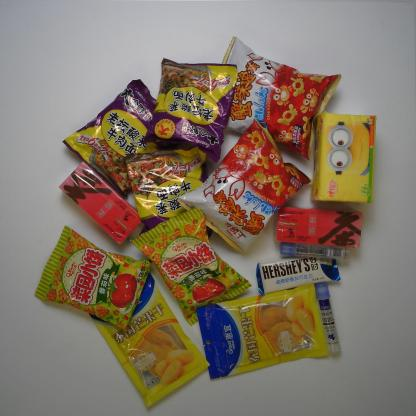Chocolate: (255, 247, 344, 294)
Dried Fruit: (85, 269, 212, 409), (195, 282, 333, 380)
Instant Drink: (57, 160, 142, 248), (273, 206, 364, 250)
Instant Noodles: (62, 79, 170, 198), (140, 58, 238, 164), (126, 145, 216, 239)
Puffed Food: (176, 115, 314, 254), (214, 35, 343, 161), (129, 204, 254, 326), (33, 224, 153, 334)
Stationery: (314, 279, 342, 356), (281, 240, 349, 263)
Tissue: (312, 109, 377, 205)
